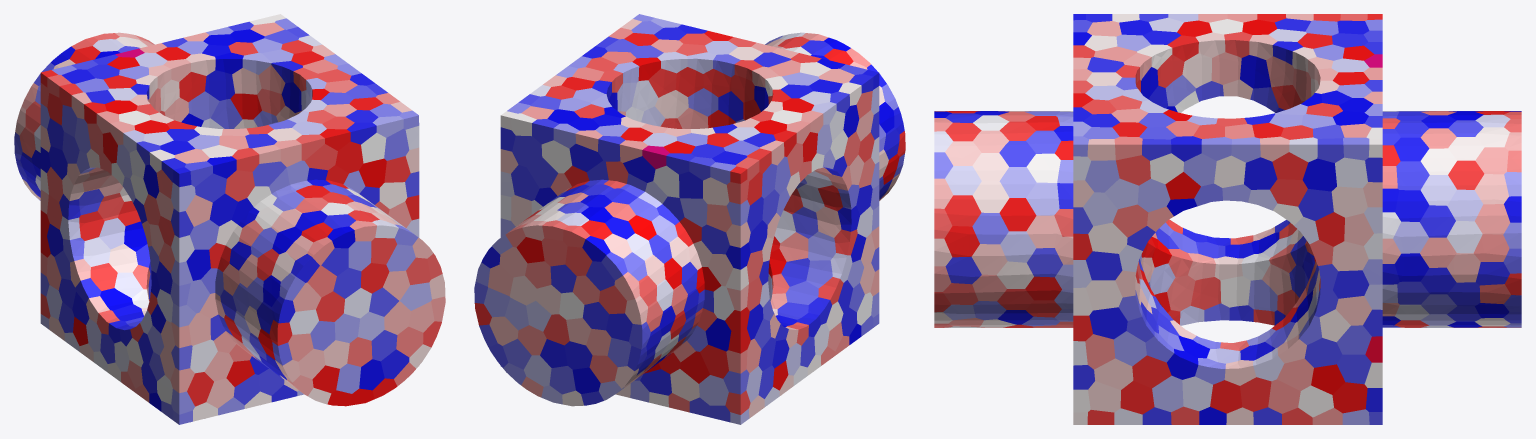
The model's file is Ours_1000_block_Iter44_RVD.obj.
The picture shows the model from 3 angles, left to right: view 1: azimuth 30°, elevation 25°; view 2: azimuth 150°, elevation 25°; view 3: azimuth 270°, elevation 25°; orthographic projection. The views are drawn at different scales.
Visible parts, largest first — view 1: 3D_Object; view 2: 3D_Object; view 3: 3D_Object.
Boxes of the visible parts, x1,y1,x2,y2 form: 3D_Object: (14,14,445,424); 3D_Object: (474,14,905,424); 3D_Object: (934,14,1521,424).
Size of the model in its own units: 20 by 20 by 38.
Materials: 1 (1 with a texture image).
